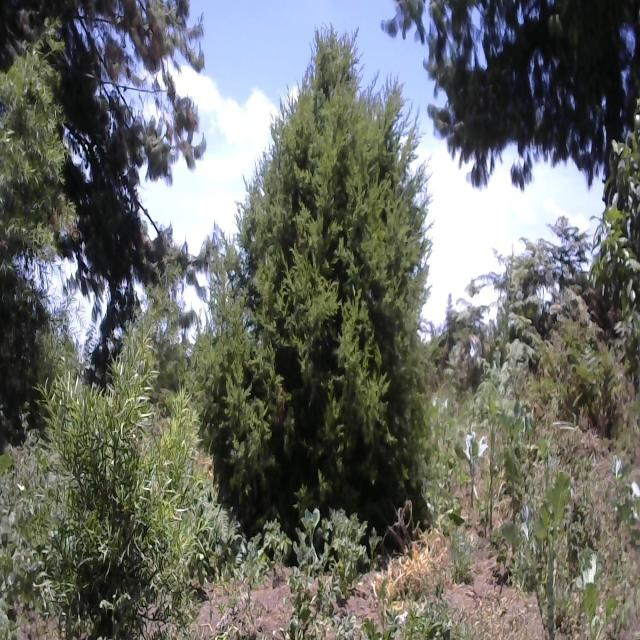Juniperus procesera: (219, 42, 436, 508)
Podocarpus falcatus: (36, 305, 206, 627), (0, 23, 64, 285)
